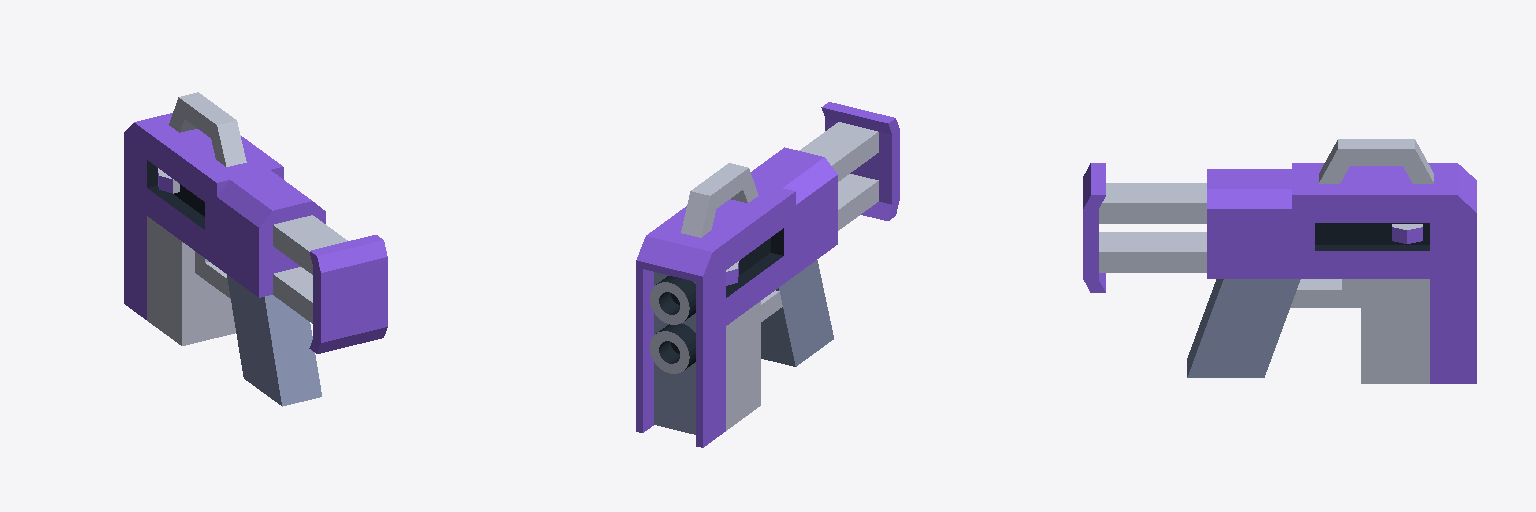
File: blasterI.obj
The picture shows the model from 3 angles: view 1: azimuth 30°, elevation 25°; view 2: azimuth 150°, elevation 25°; view 3: azimuth 270°, elevation 25°; orthographic projection.
Parts seen in each view (by area): view 1: blasterI; view 2: blasterI; view 3: blasterI.
Part boxes in pixels (x1,y1,x2,y2): blasterI: (124, 92, 387, 406); blasterI: (636, 102, 899, 447); blasterI: (1083, 139, 1476, 383).
Size of the model in its own units: 0.1 by 0.32 by 0.51.